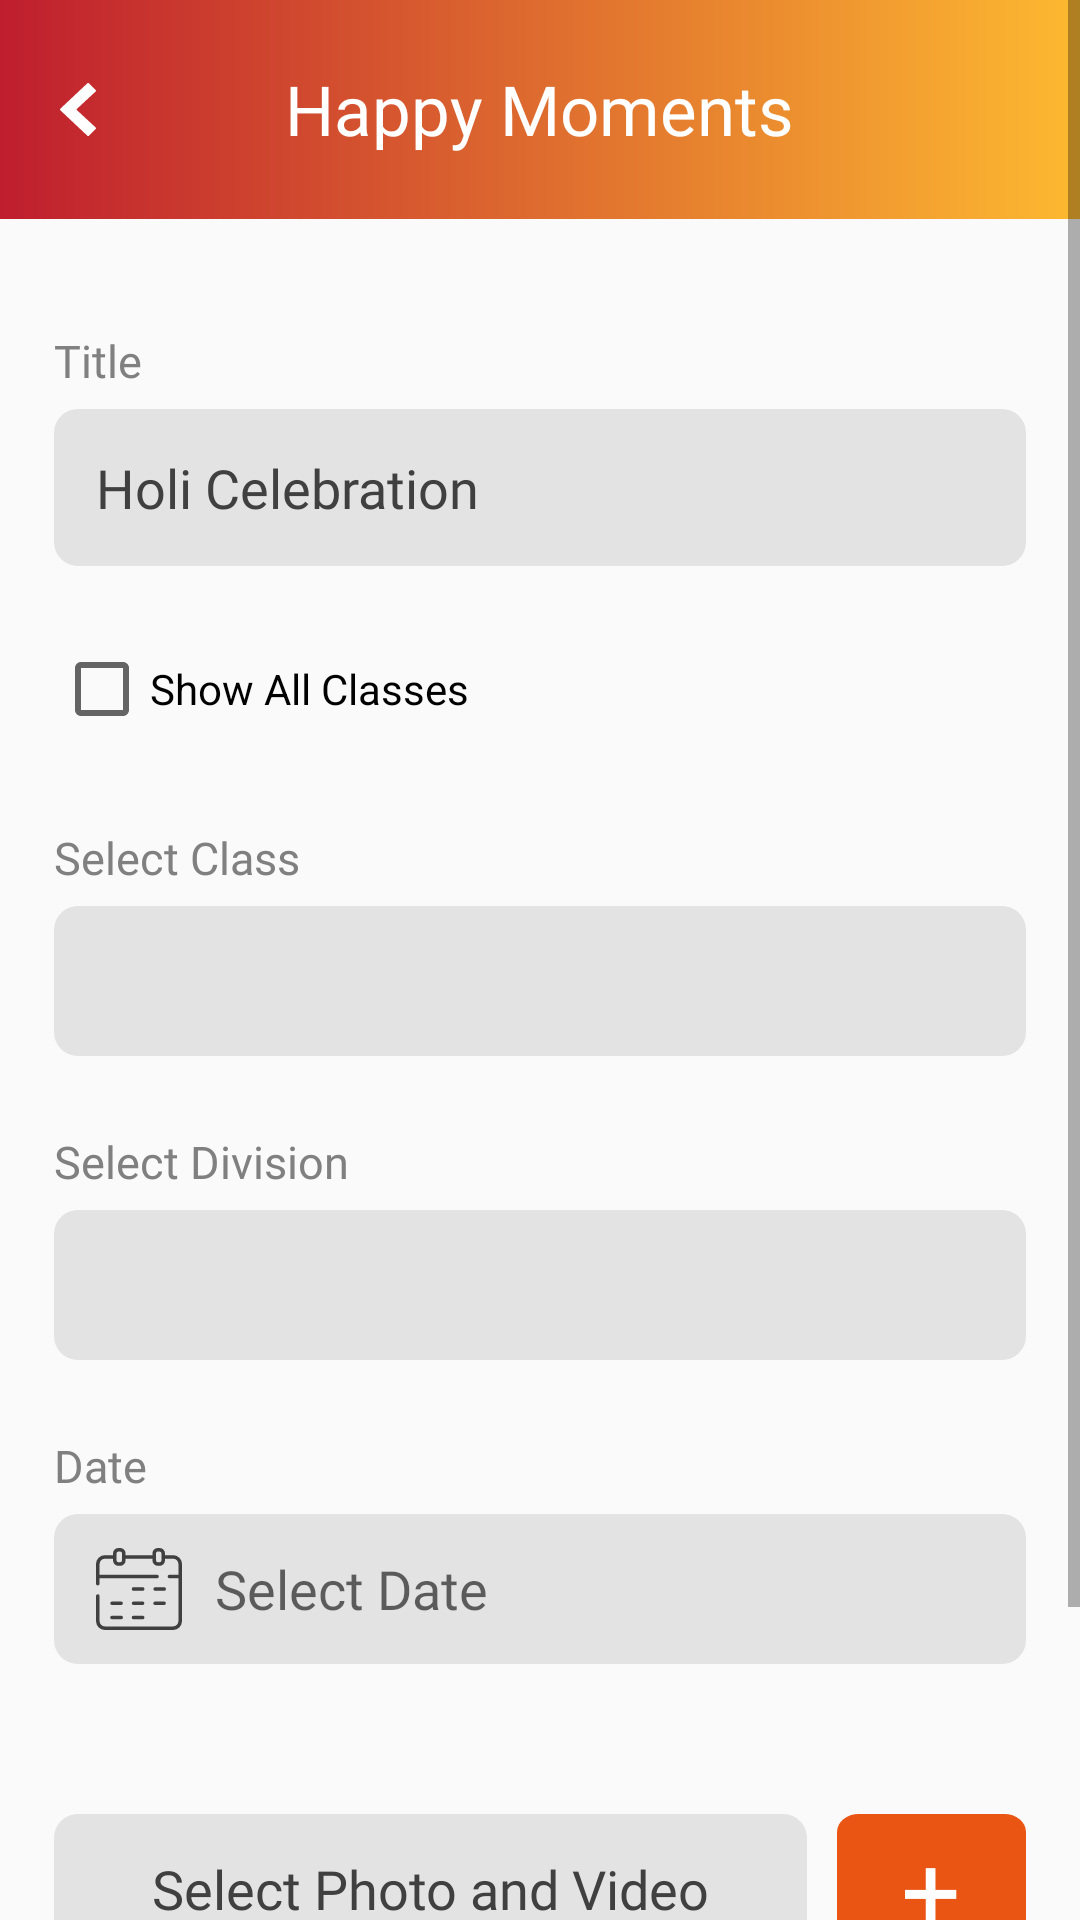

Point at icon controls on the screen. Image size 1080 x 1920, points as (x,y).
left: (78,109)
